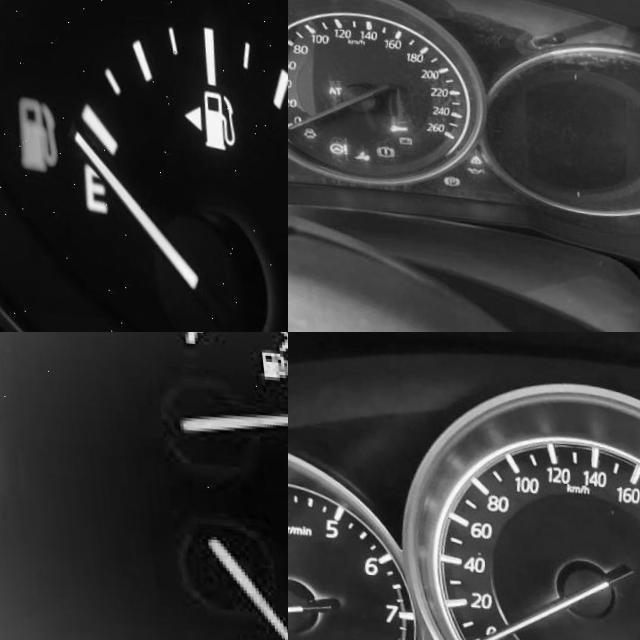Electronic Power Steering: (321, 137, 341, 152)
